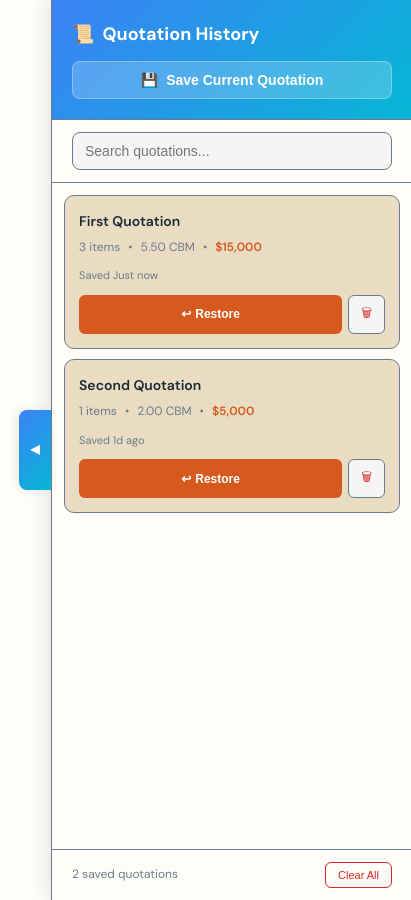
Scenario: HistoryPanel › rename functionality › should enter edit mode when clicking on name
The image size is (411, 900).
Click the text "First Quotation".
click(130, 221)  # box x1=79 y1=212 x2=180 y2=230
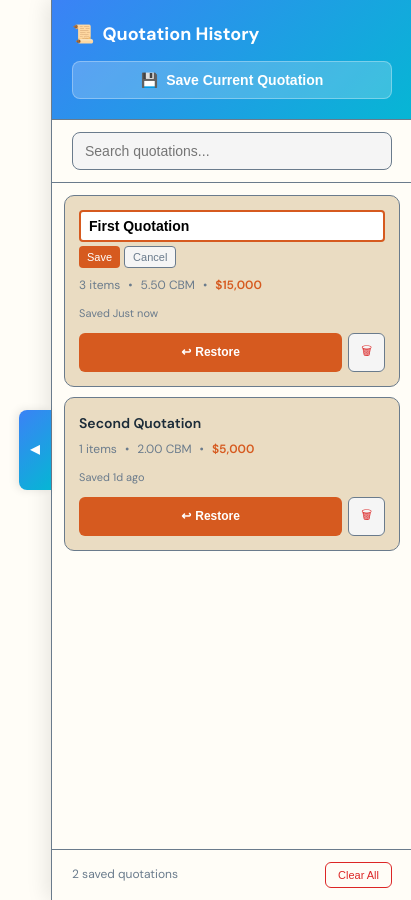
Now the field showing "First Quotation" is shown, box x1=79 y1=210 x2=385 y2=242
